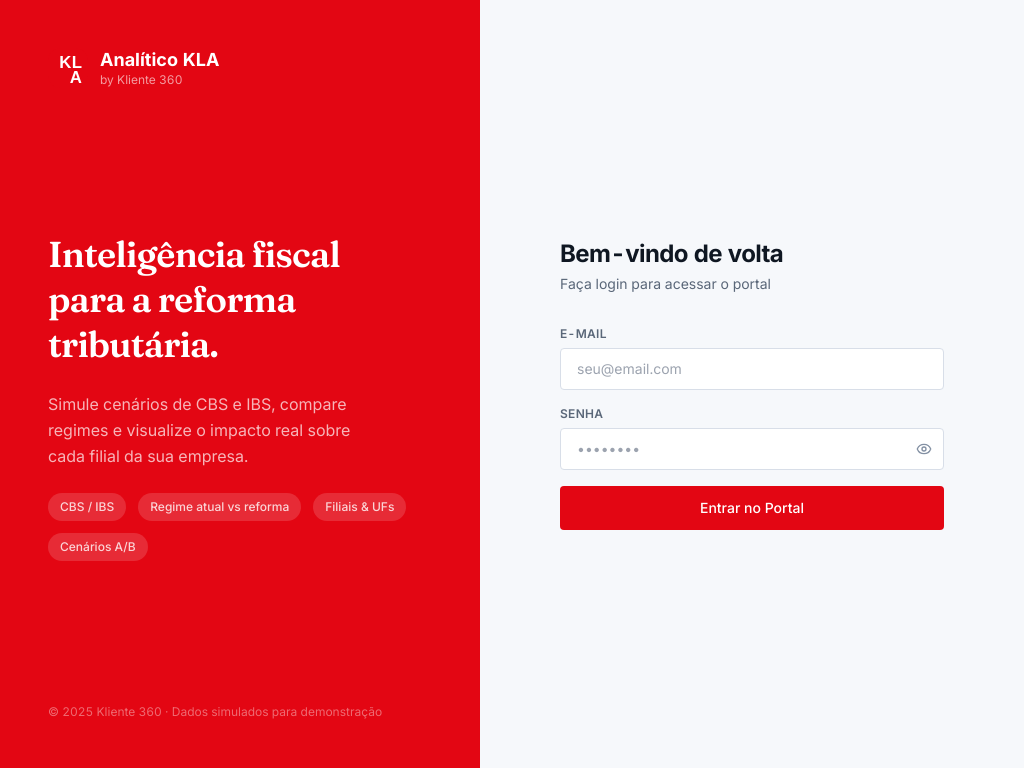
LoginPage › toggles password visibility
Click the button named "mostrar senha". click: (924, 449)
box: left=916, top=441, right=932, bottom=457
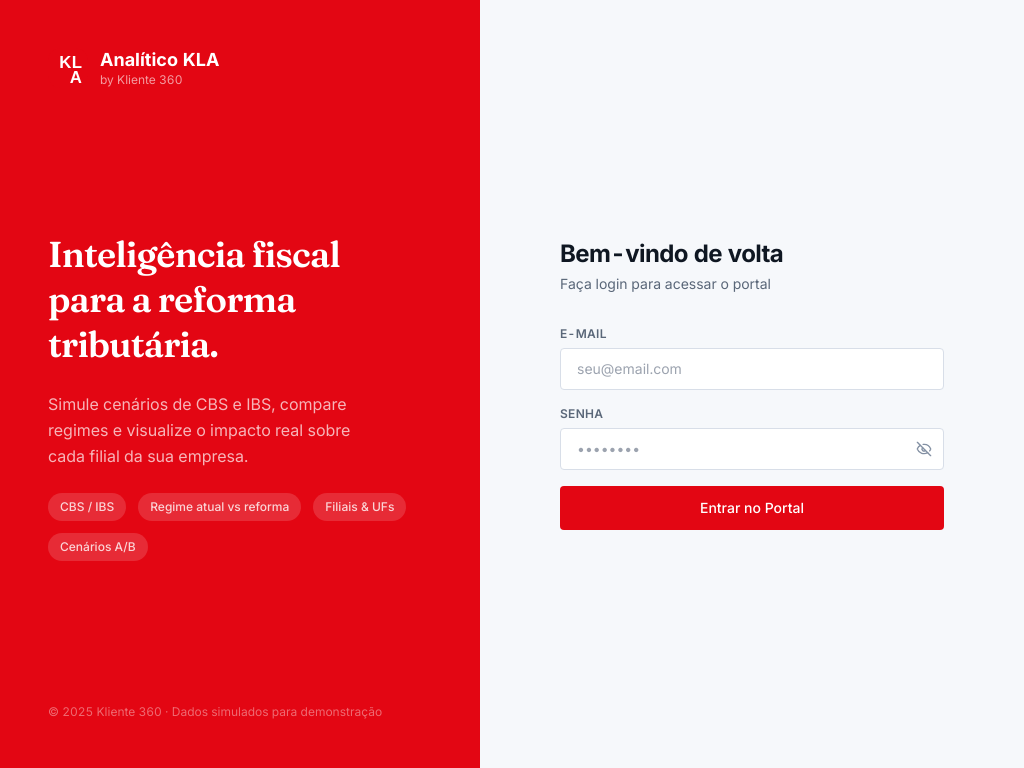
Result: the button named "ocultar senha" is shown at left=916, top=441, right=932, bottom=457
